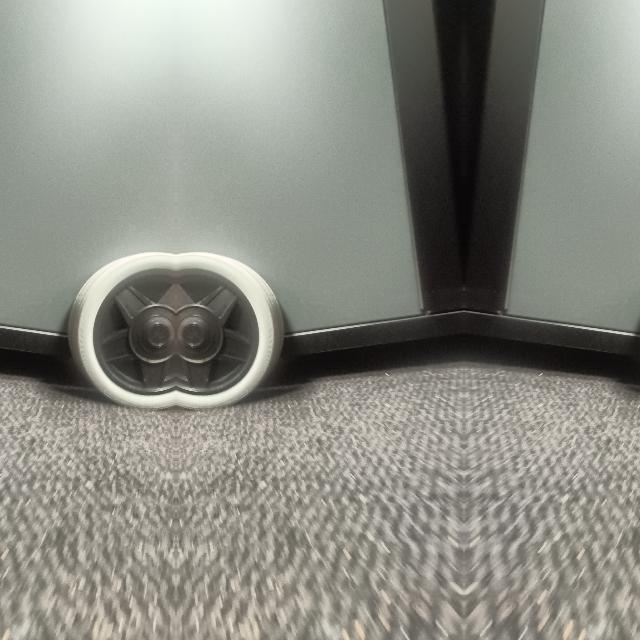obstacle: (174, 83, 463, 409), (463, 83, 640, 409), (0, 83, 175, 409)
